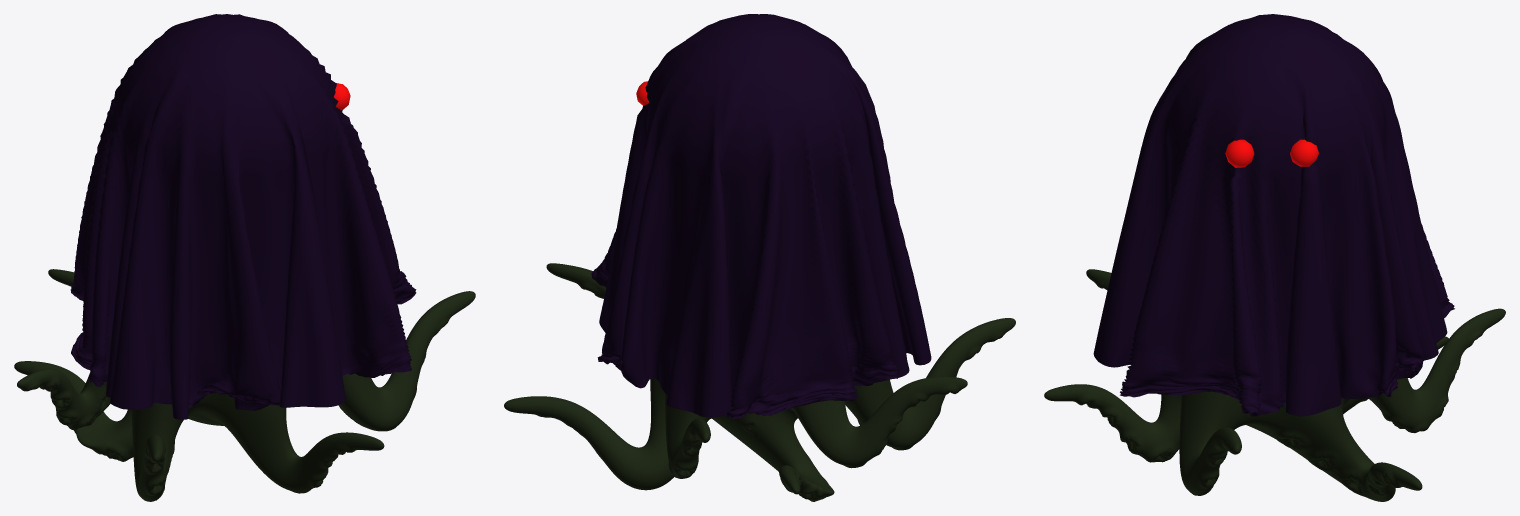
Rendered from customer4.fbx.
3 views of the same model, side by side, from view 1: azimuth 30°, elevation 25°; view 2: azimuth 150°, elevation 25°; view 3: azimuth 270°, elevation 25° (orthographic).
Parts seen in each view (by area): view 1: worker; view 2: worker; view 3: worker.
Part boxes in pixels (x1=…): worker: x1=14, y1=14, x2=475, y2=501; worker: x1=504, y1=14, x2=1015, y2=501; worker: x1=1044, y1=14, x2=1505, y2=501.
Bounding box in the file's own units: 768 × 741 × 696.
